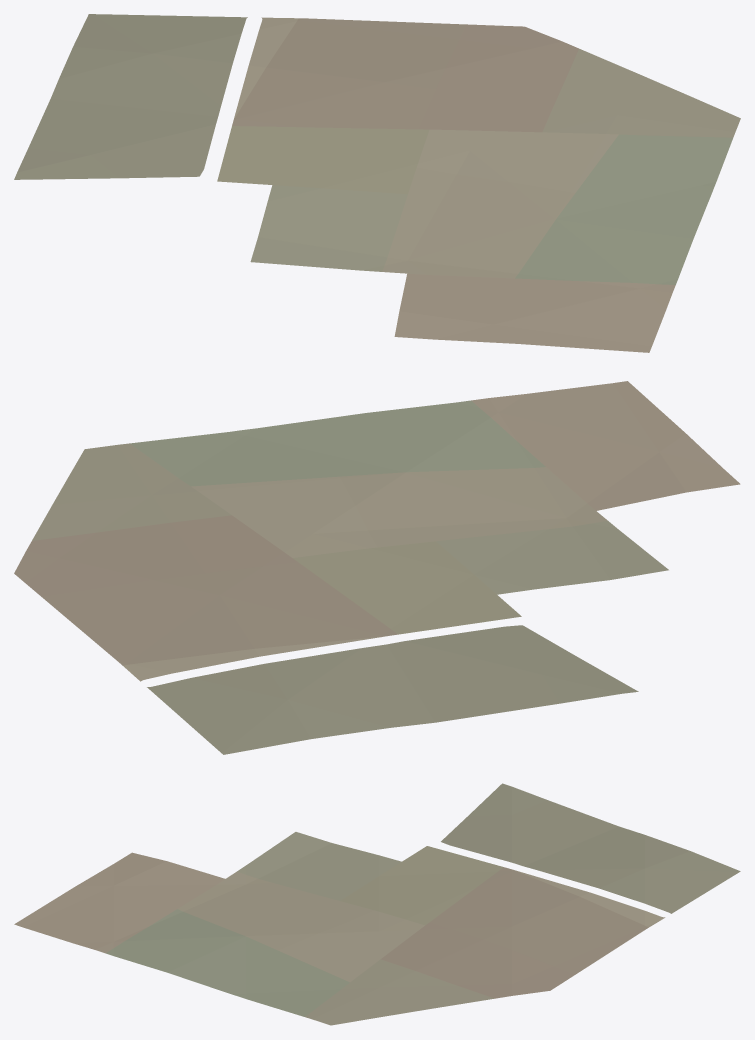
Rendered from farm_-22_-23_soil.glb.
The picture shows the model from 3 angles, top to bottom: view 1: azimuth 30°, elevation 25°; view 2: azimuth 150°, elevation 25°; view 3: azimuth 270°, elevation 25°; orthographic projection. The views are drawn at different scales.
Visible parts, largest first — view 1: geometry_0; view 2: geometry_0; view 3: geometry_0.
Part boxes in pixels (x1,y1,x2,y2): geometry_0: [14, 14, 740, 352]; geometry_0: [14, 381, 740, 754]; geometry_0: [14, 783, 740, 1025].
Bounding box in the file's own units: 335 × 13.66 × 438.
